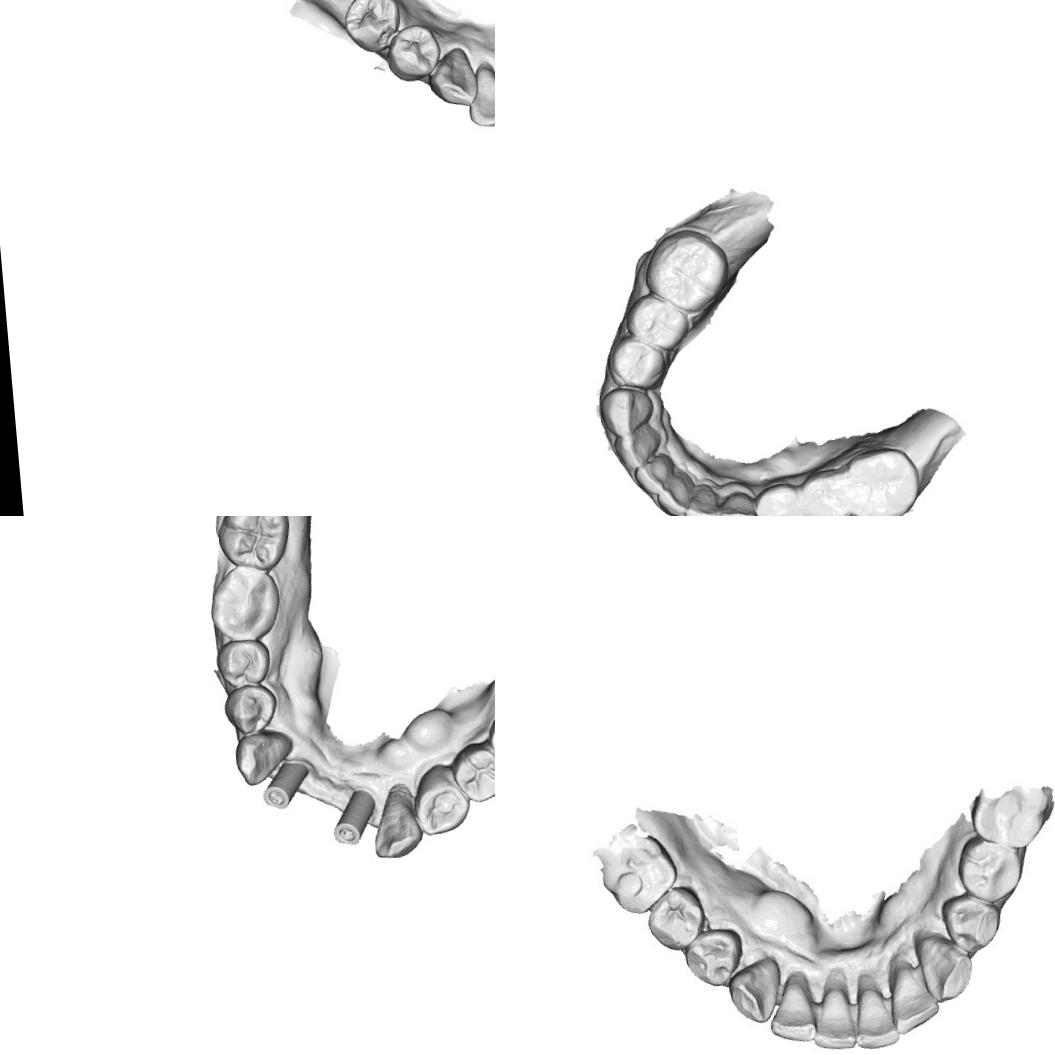canine: (368, 780, 426, 862), (915, 925, 972, 1004), (724, 956, 782, 1026), (231, 727, 296, 787), (425, 42, 479, 110), (596, 383, 656, 438), (710, 488, 759, 516)
implant: (254, 755, 313, 814), (327, 784, 380, 848)
incisor: (806, 972, 861, 1055), (848, 968, 902, 1050), (886, 954, 940, 1034), (761, 969, 818, 1043), (611, 424, 664, 472), (631, 450, 678, 497), (463, 63, 495, 129), (654, 468, 697, 516), (680, 481, 720, 516)
molar: (638, 224, 732, 318), (596, 828, 682, 917), (204, 559, 284, 645), (972, 778, 1055, 851), (843, 443, 923, 516), (213, 516, 294, 573)
premolar: (954, 834, 1028, 909), (409, 759, 474, 838), (643, 881, 712, 952), (622, 289, 692, 355), (937, 889, 1006, 954), (683, 924, 749, 991), (382, 20, 446, 84), (603, 331, 669, 393), (338, 0, 404, 57), (220, 681, 281, 737), (213, 636, 273, 690), (448, 738, 495, 803), (796, 466, 851, 516), (751, 480, 805, 516)
